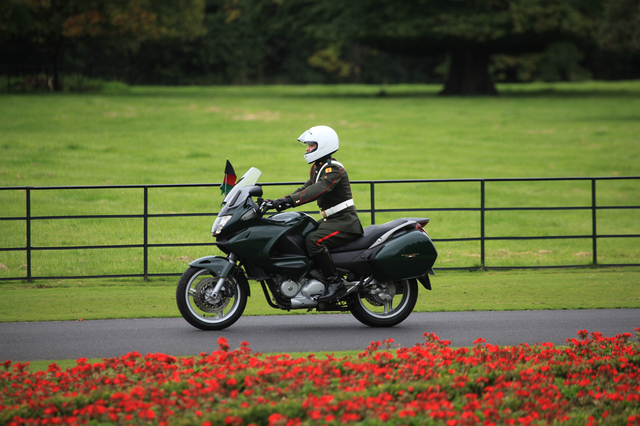helmet: (294, 127, 340, 162)
